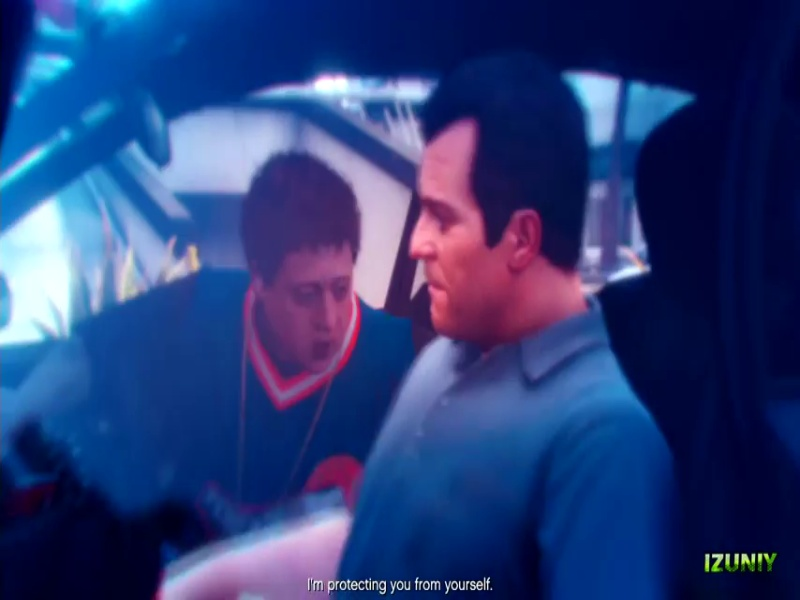human: (21, 114, 415, 563)
